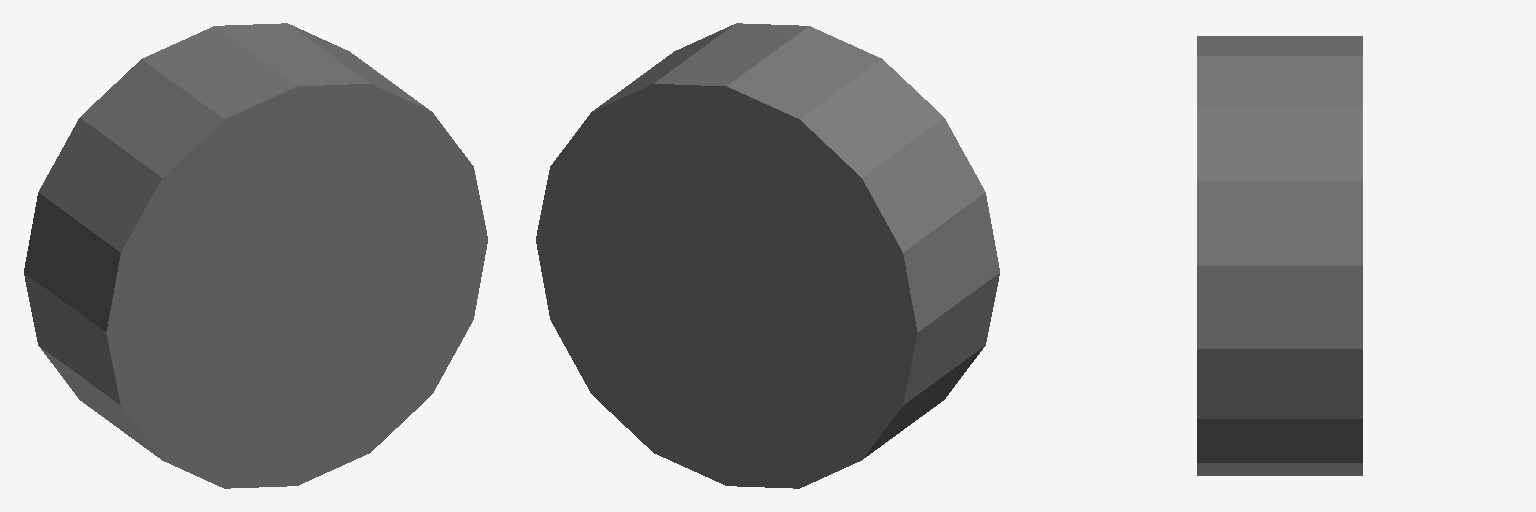
Rendered from CMG.obj.
3 renders of one model, left to right at view 1: azimuth 30°, elevation 25°; view 2: azimuth 150°, elevation 25°; view 3: azimuth 270°, elevation 25°, orthographic.
Parts seen in each view (by area): view 1: Cylinder1; view 2: Cylinder1; view 3: Cylinder1.
Boxes of the visible parts, <box> form: Cylinder1: <box>24,23,487,488</box>; Cylinder1: <box>536,23,999,488</box>; Cylinder1: <box>1197,36,1362,475</box>.
Size of the model in its own units: 0.4 by 0.4 by 0.15.